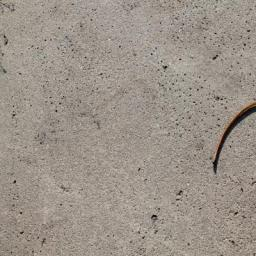FOD: (209, 99, 256, 175)
